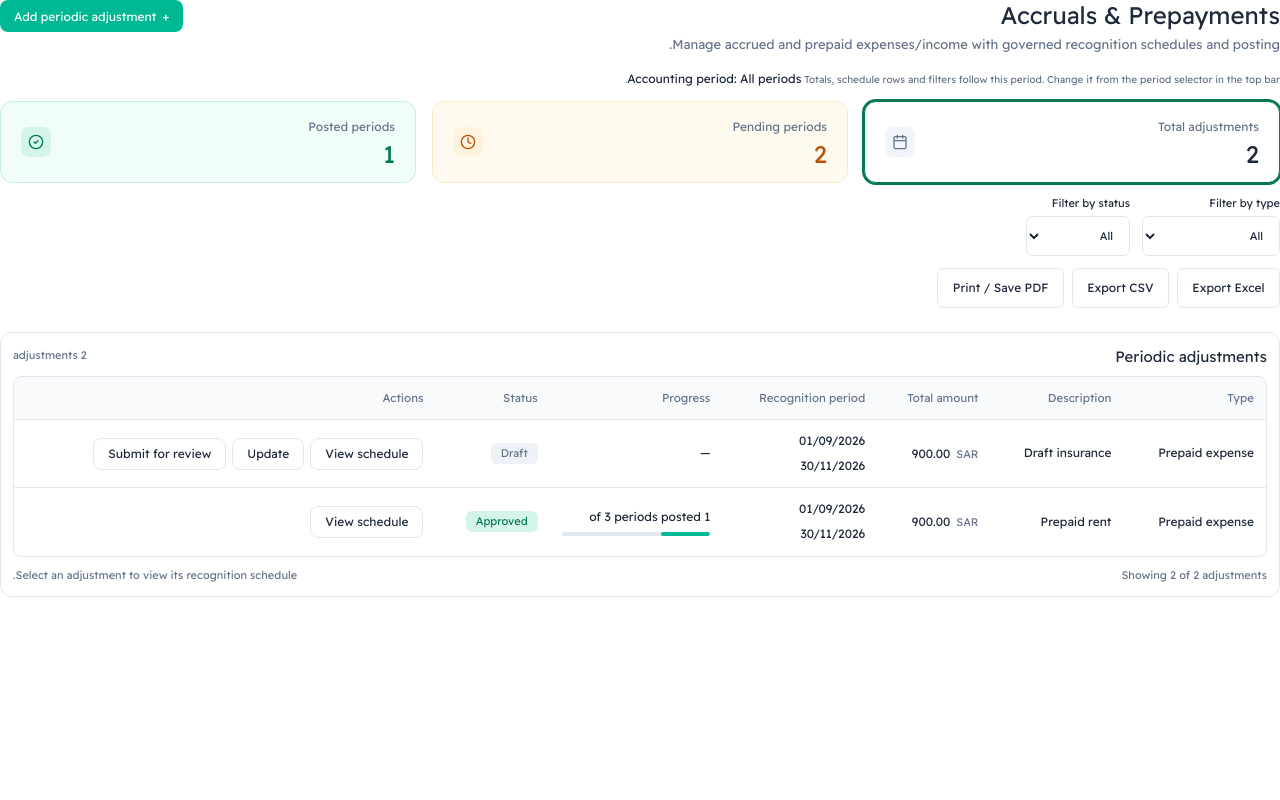
Test: Accruals & Prepayments workspace › shows no schedule until View schedule is clicked, then switches per adjustment, read-only
Expected: the text "Prepaid rent" is shown, [1041,514,1112,529]
Expected: the text "Select an adjustment to view its recognition schedule." is shown, [13,567,297,584]
Click the button "View schedule" in the row of "Prepaid rent": (367, 522) [310,506,424,538]
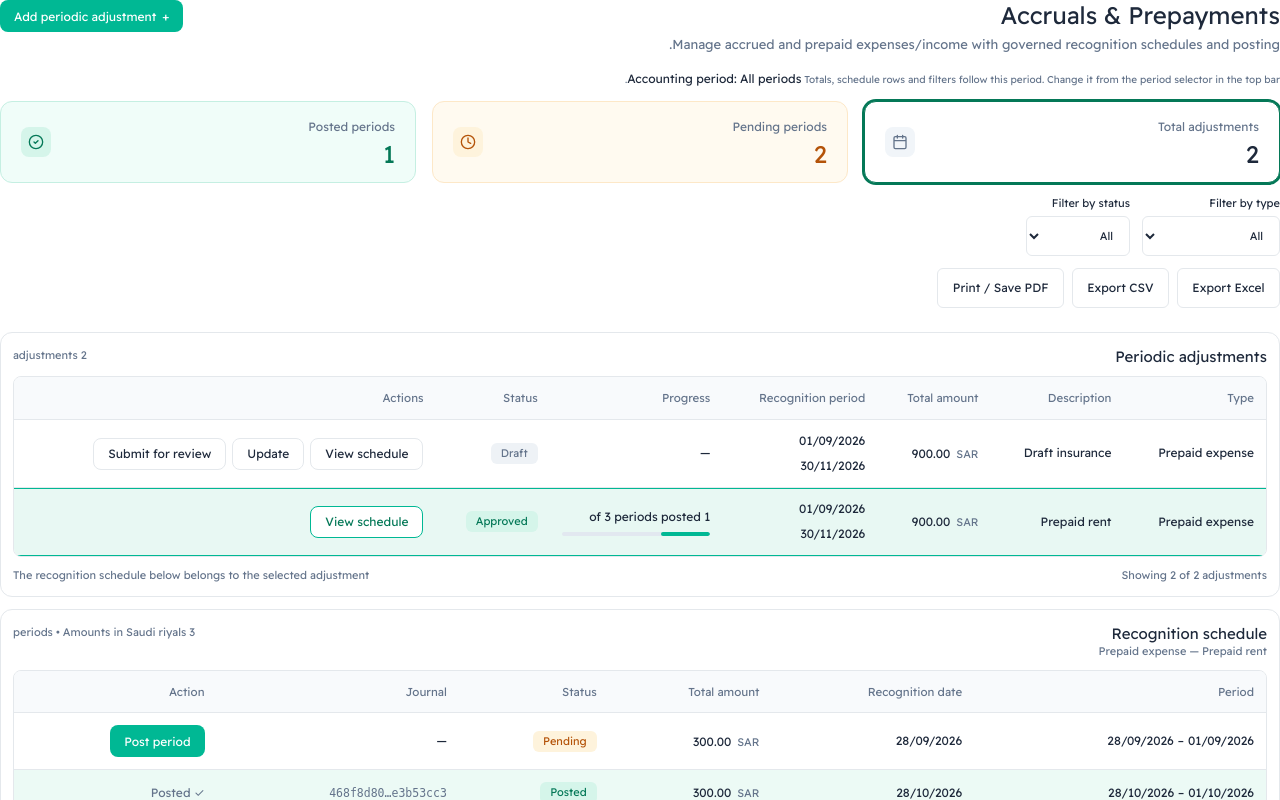
Expected: the text "Prepaid expense — Prepaid rent" is shown, [1098,643,1267,660]
Expected: the number of buttons "Post period" is 2
Click the button "View schedule" in the row of "Draft insurance": (367, 454) [310,438,424,470]
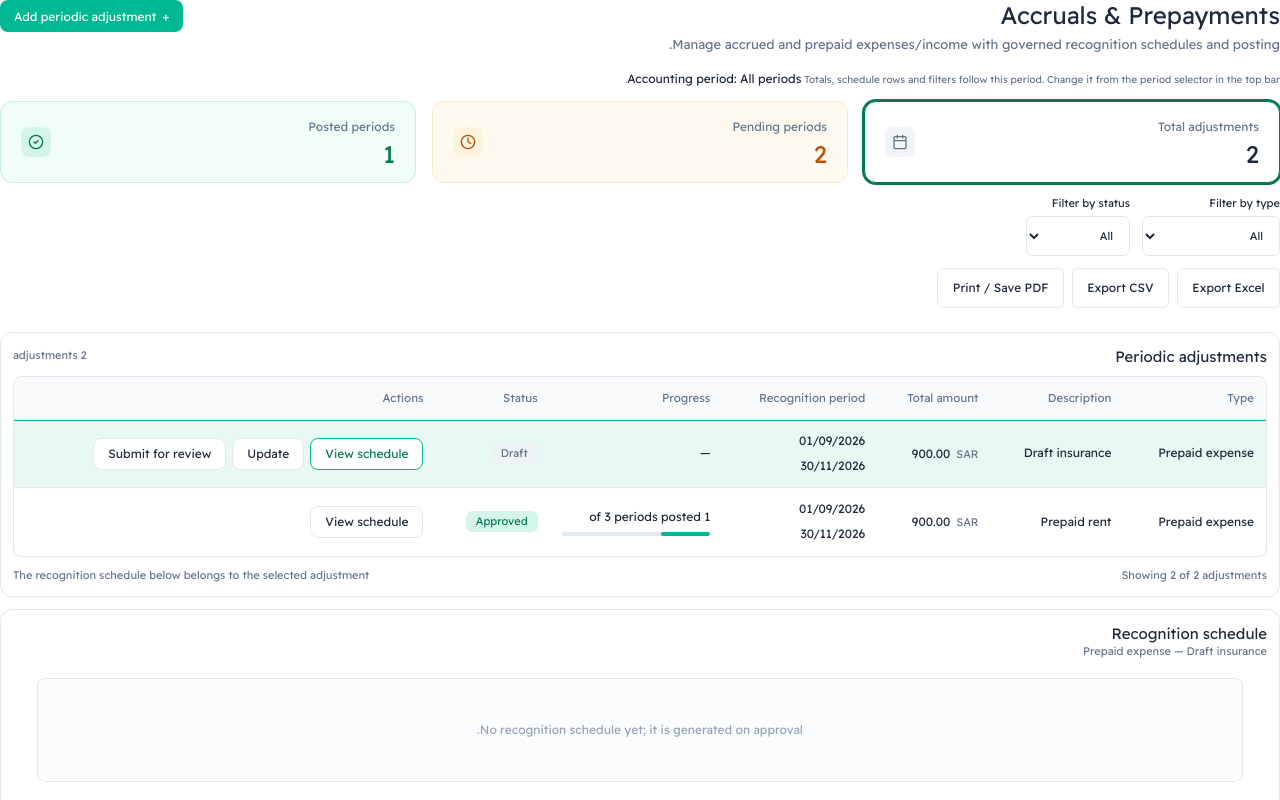
Expected: the text "No recognition schedule yet; it is generated on approval." is shown, [477,720,803,739]
